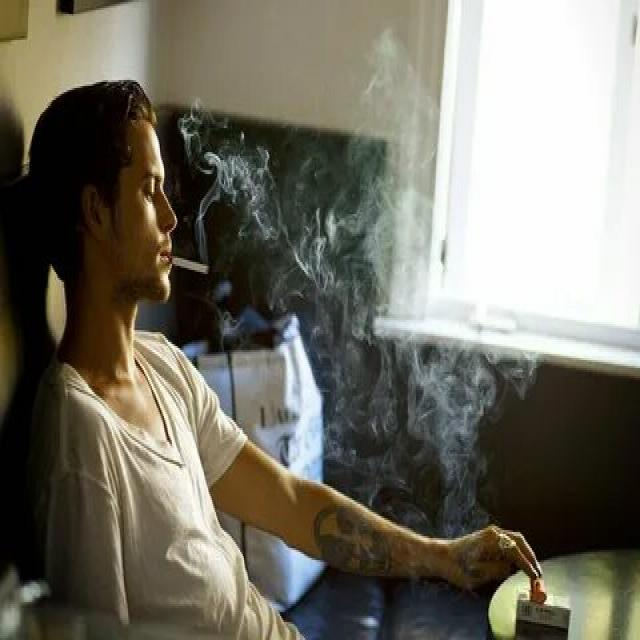smoke: (168, 250, 213, 280)
